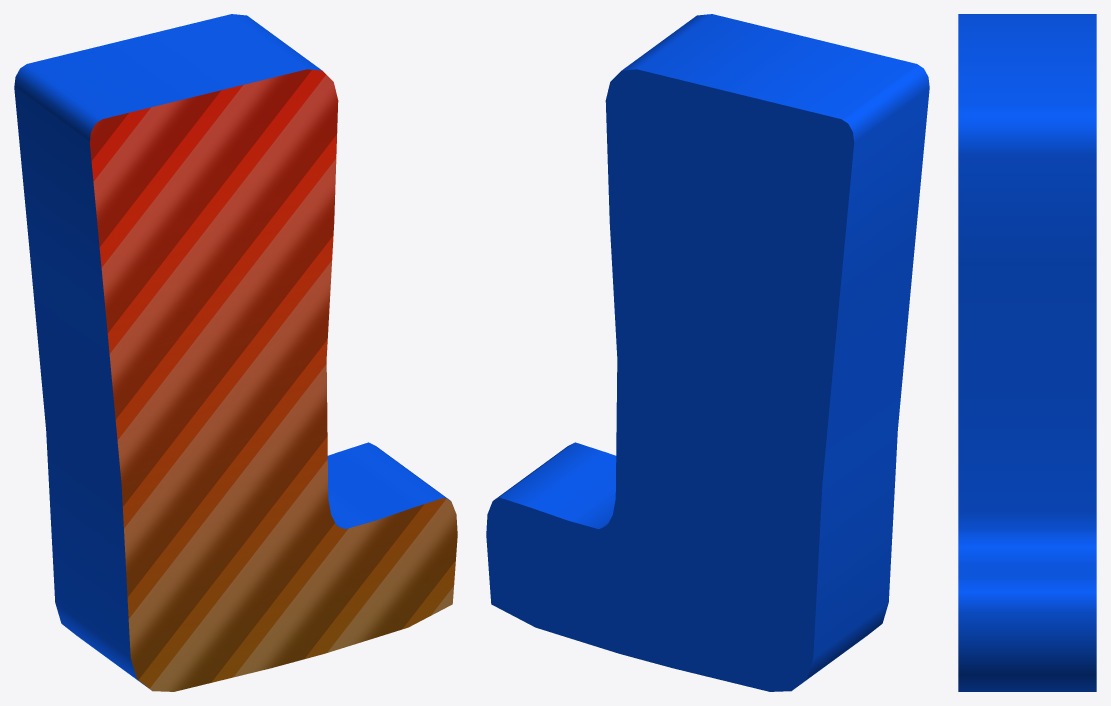
3 views of the same model, side by side, from view 1: azimuth 30°, elevation 25°; view 2: azimuth 150°, elevation 25°; view 3: azimuth 270°, elevation 25° (orthographic). The views are drawn at different scales.
Visible parts, largest first — view 1: L; view 2: L; view 3: L.
Part boxes in pixels (x1,y1,x2,y2): L: (14,14,457,691); L: (486,14,929,691); L: (958,14,1096,691).
Size of the model in its own units: 56.26 by 86.23 by 20.
2 materials, 1 textured.
